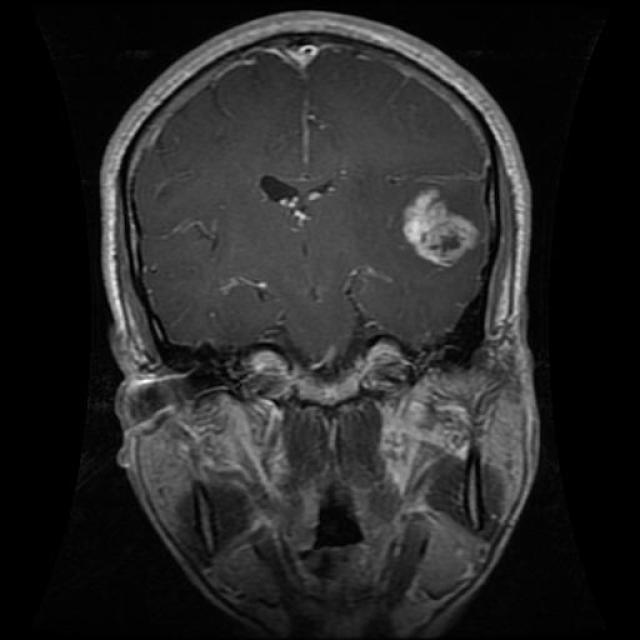glioma: (388, 176, 487, 284), (256, 166, 345, 238)
